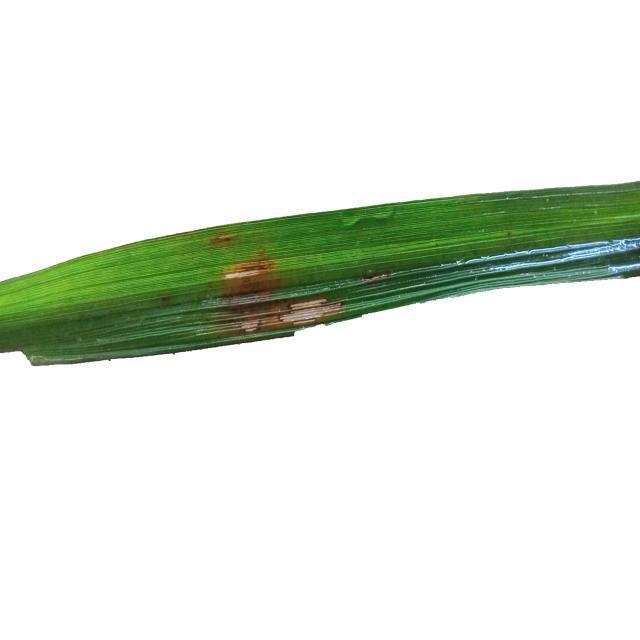Bacterial_Leaf_Blight: (220, 256, 285, 341), (279, 275, 341, 331), (204, 230, 250, 254), (361, 265, 395, 294)
